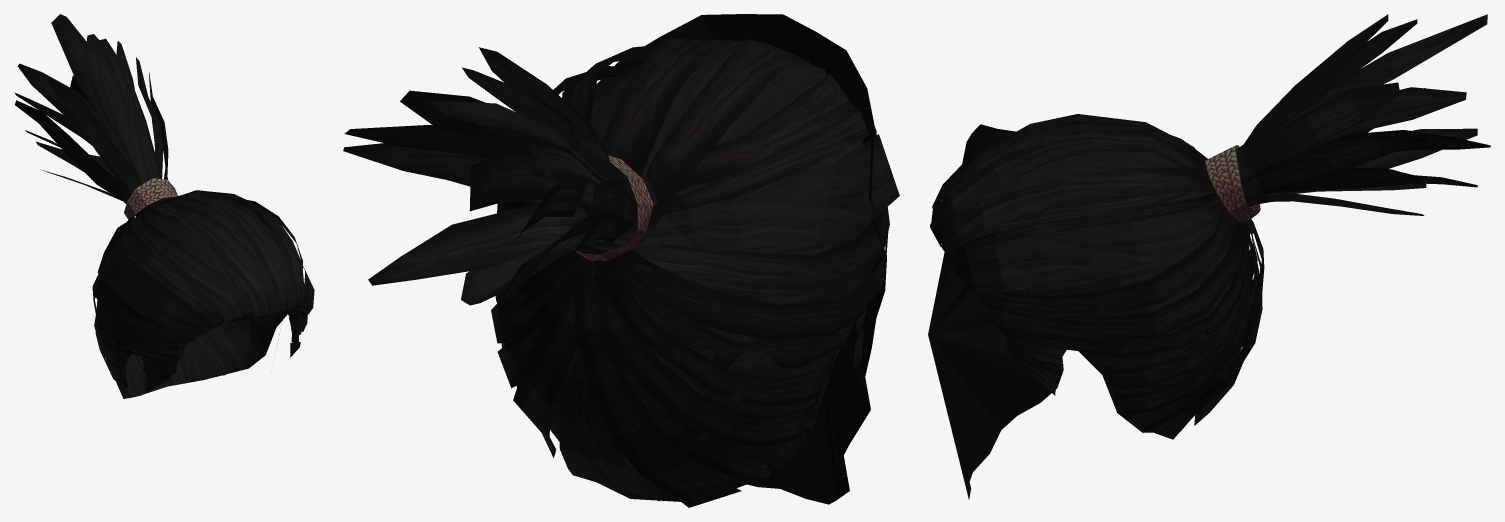
3 renders of one model, left to right at view 1: azimuth 30°, elevation 25°; view 2: azimuth 150°, elevation 25°; view 3: azimuth 270°, elevation 25°, orthographic. The views are drawn at different scales.
Visible parts, largest first — view 1: hair; view 2: hair; view 3: hair.
Boxes of the visible parts, <box> form: hair: <box>14,14,314,398</box>; hair: <box>343,14,899,507</box>; hair: <box>928,14,1490,499</box>.
Bounding box in the file's own units: 0.2297 × 0.4257 × 0.4546.
Materials: 1 (1 with a texture image).
